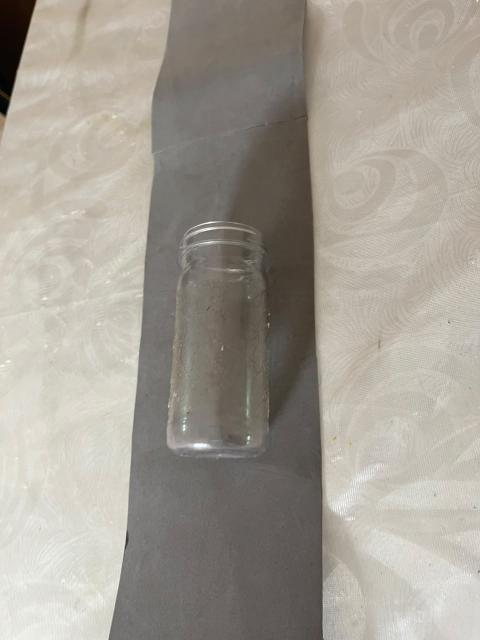PET: (133, 180, 307, 505)
